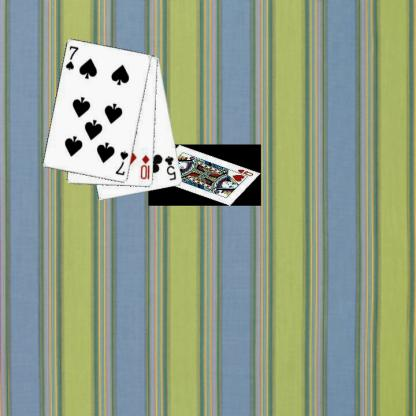10D: (138, 152, 151, 181)
5C: (162, 154, 178, 181)
7S: (64, 43, 80, 72), (114, 149, 130, 177)
